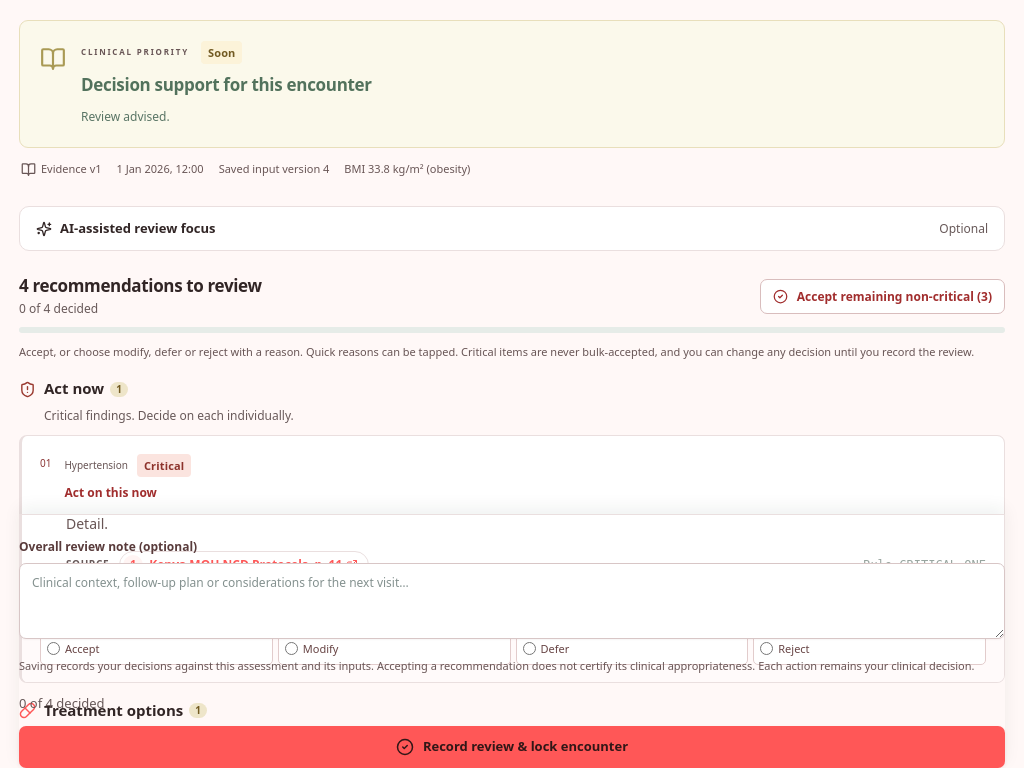
Test case: bulk-accepts only non-critical items and still requires a decision on critical ones
Click the button "Accept remaining non-critical (3)" at (882, 296), box x1=760 y1=279 x2=1005 y2=314
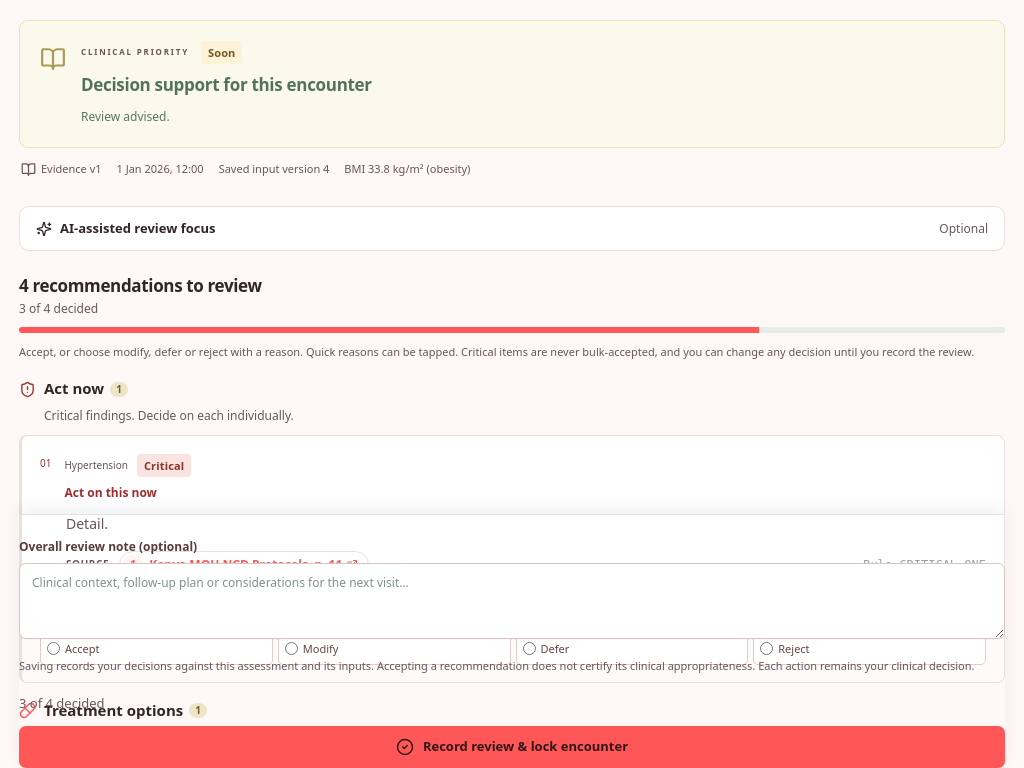
Result: the button "Accept remaining" is gone
Result: the text "3 of 4 decided" is shown at x1=19 y1=300 x2=98 y2=317
Click the button "Record review & lock encounter" at (512, 747), box x1=19 y1=726 x2=1005 y2=767
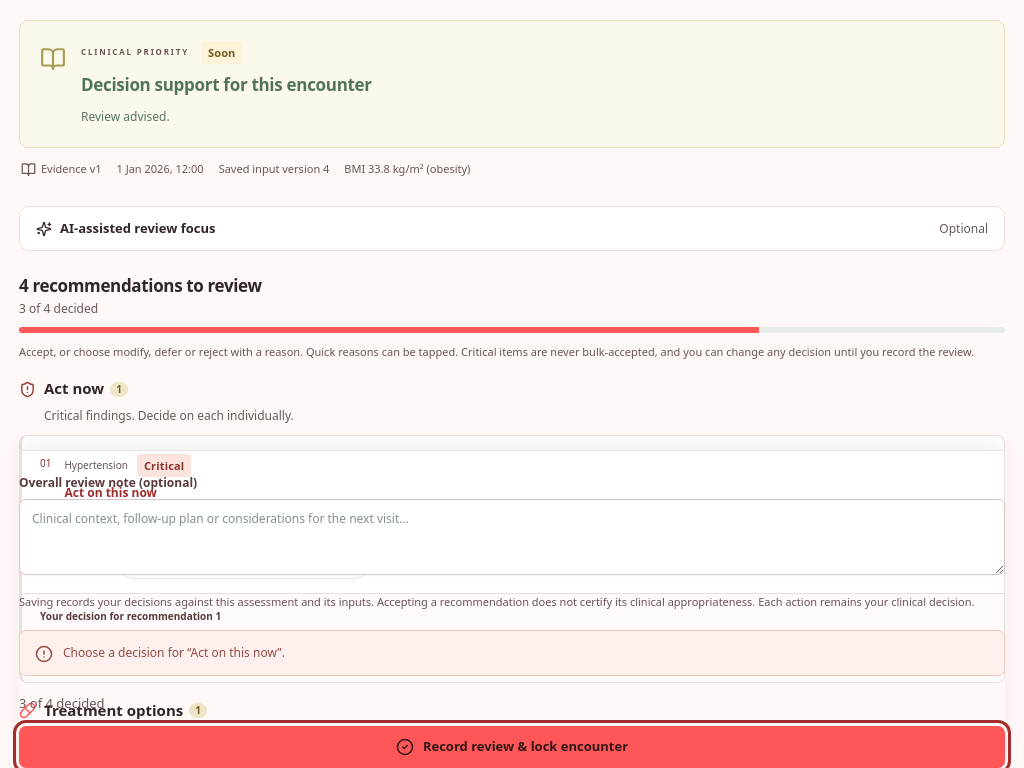
Result: the message shows "Choose a decision for “Act on this now”" at x1=63 y1=644 x2=285 y2=662
